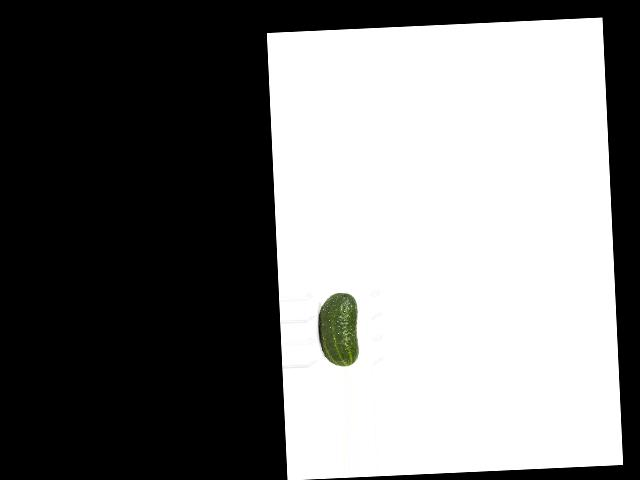cucumber: (317, 292, 358, 367)
